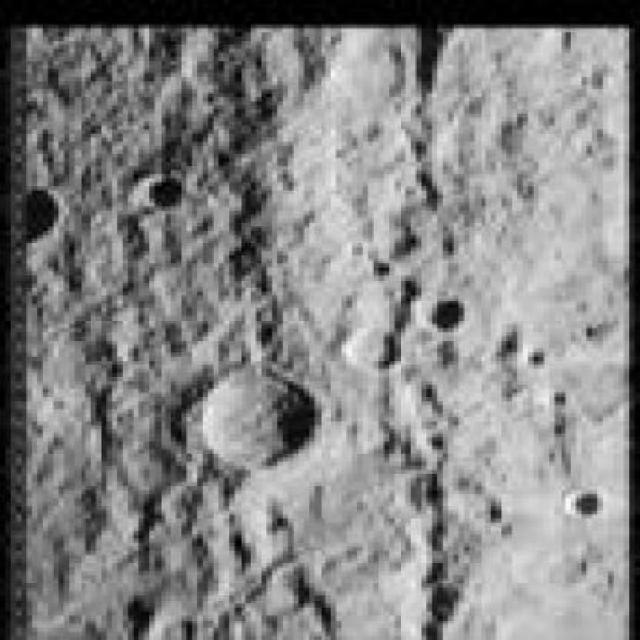crater: (194, 366, 320, 468), (348, 328, 400, 370), (421, 294, 465, 334), (566, 489, 606, 517), (141, 180, 179, 206)
